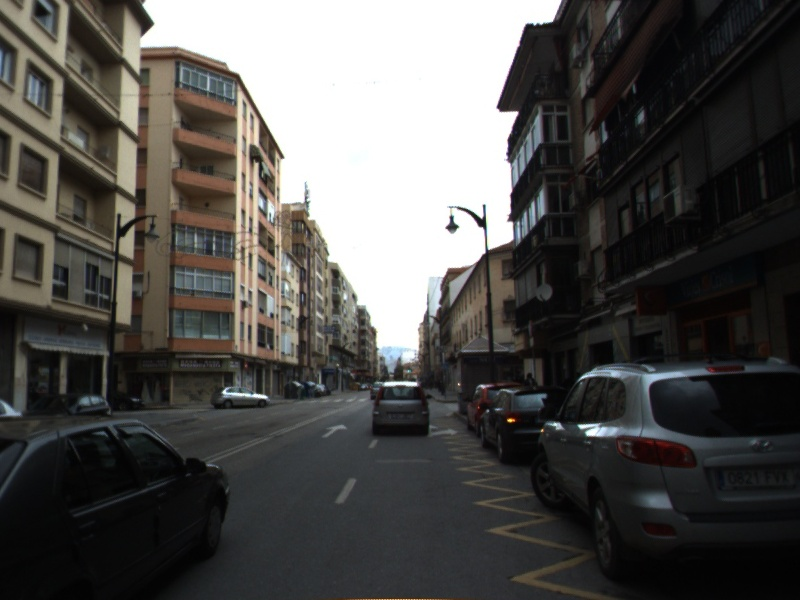STRAIGHT: (319, 422, 350, 440)
STRAIGHT_RIGHT: (425, 422, 459, 439)
